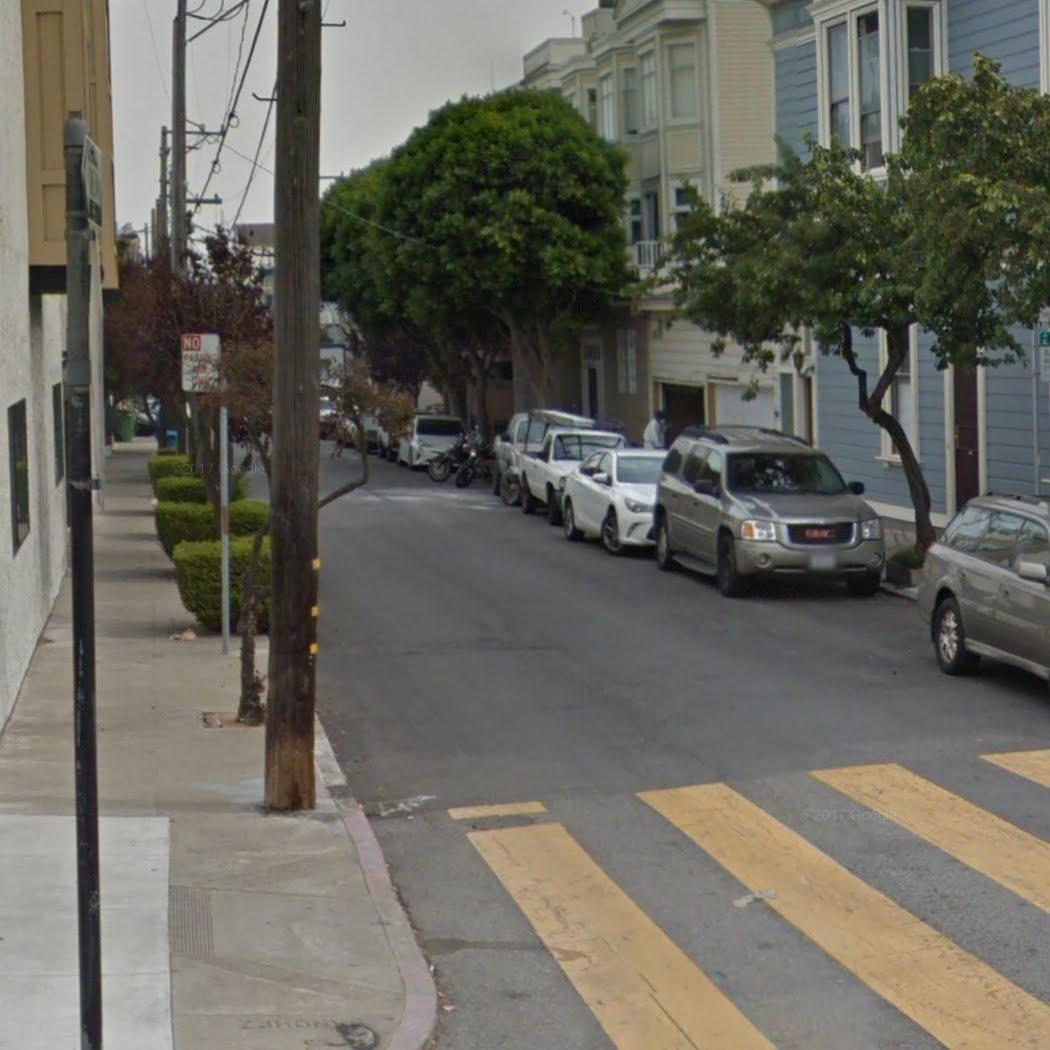No Parking Anytime: (176, 329, 225, 395)
